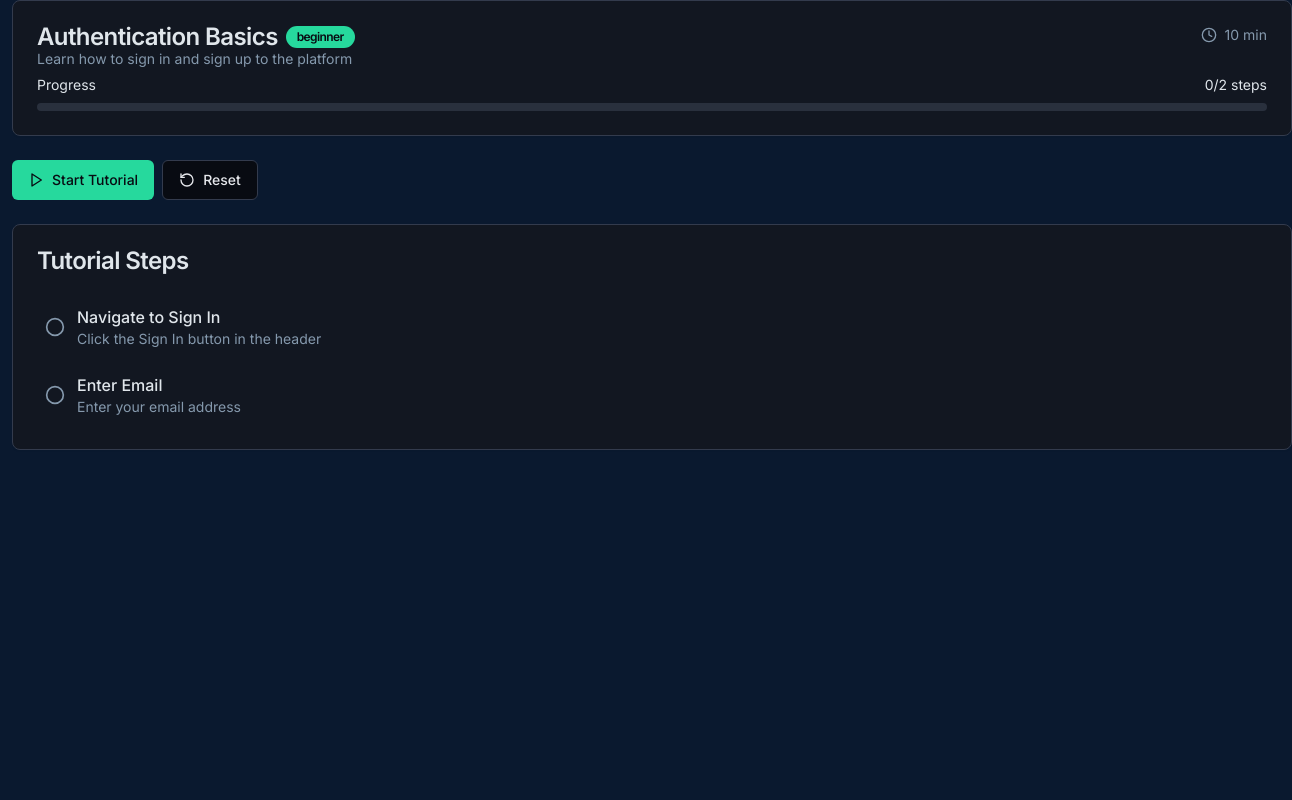
it: InteractiveTutorial › Tutorial Controls › should pause tutorial when pause button is clicked
Start tutorial first
Click the button with test id "start-tutorial-button". click: click(83, 180)
box: [12,160,154,200]
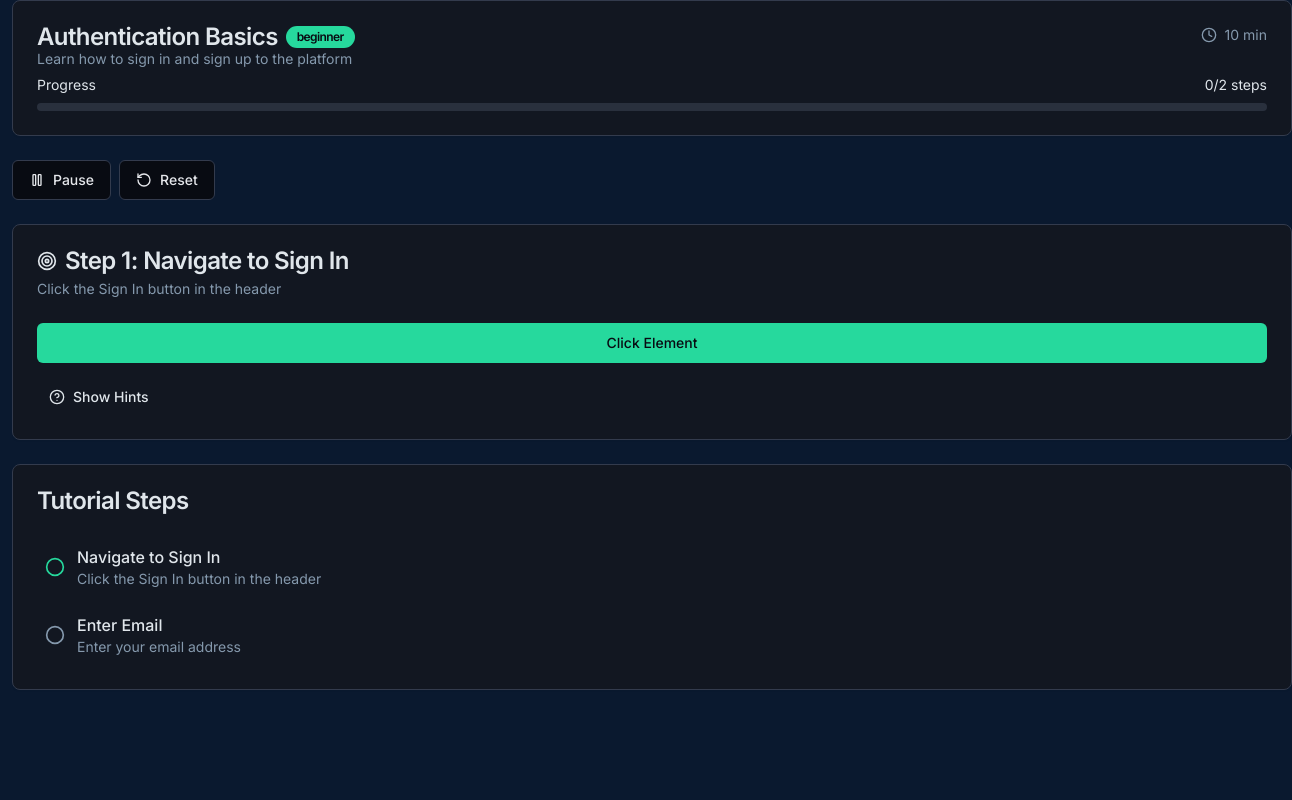
Then pause it
Click the button with test id "pause-tutorial-button". click: click(62, 180)
box: [12,160,111,200]
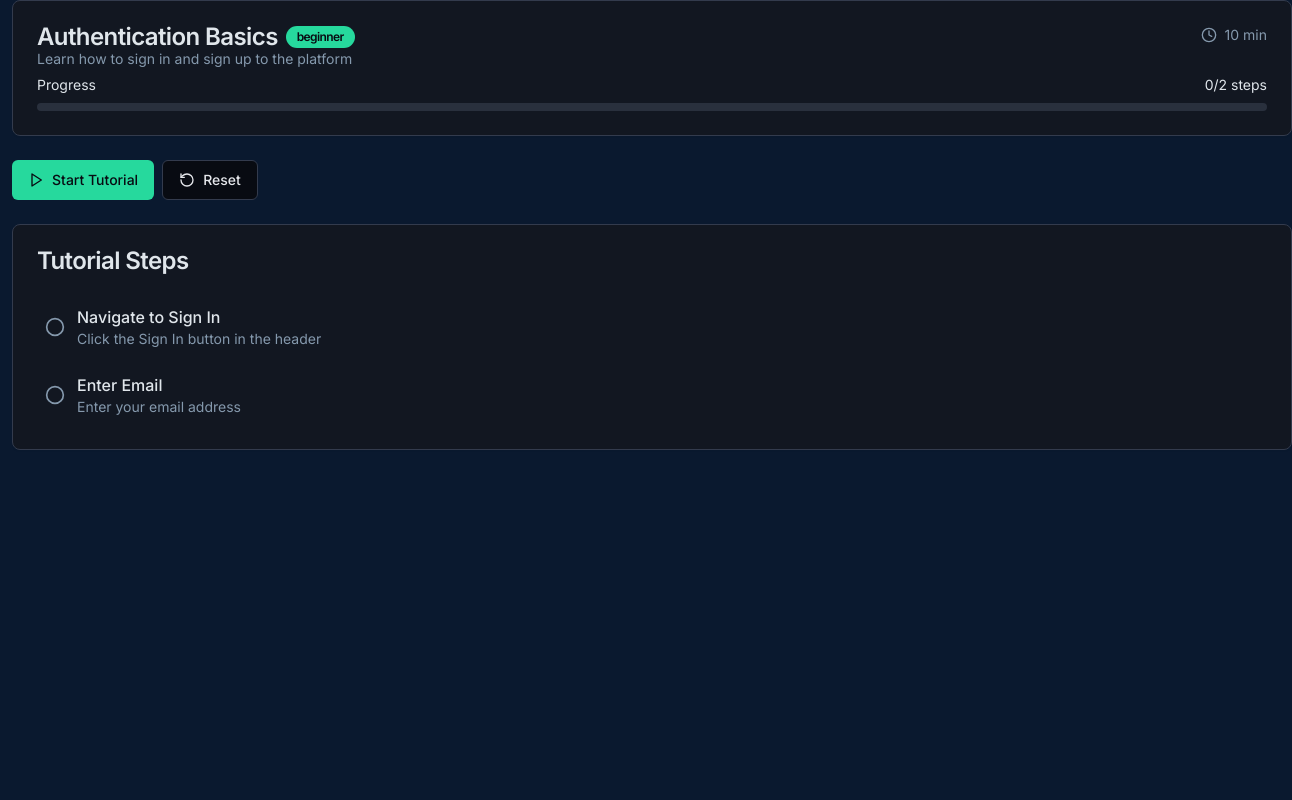
Expected: the button with test id "start-tutorial-button" is shown, [12,160,154,200]
